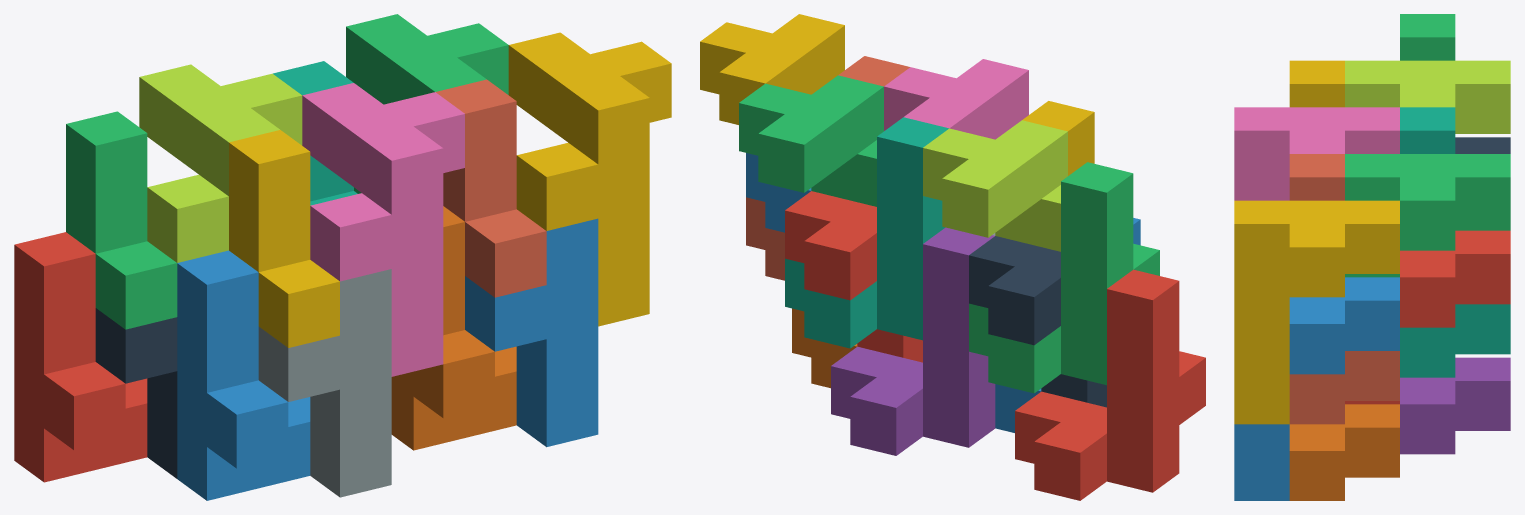
File: tiling.obj
3 renders of one model, left to right at view 1: azimuth 30°, elevation 25°; view 2: azimuth 150°, elevation 25°; view 3: azimuth 270°, elevation 25°, orthographic. The views are drawn at different scales.
Visible parts, largest first — view 1: copy_2_domain_4, copy_2_domain_8, copy_1_domain_1, copy_1_domain_2, copy_2_domain_6, copy_2_domain_2, copy_2_domain_3, copy_1_domain_3, copy_1_domain_4, copy_1_domain_8, copy_1_domain_6, copy_2_domain_7 (+2 smaller); view 2: copy_1_domain_1, copy_1_domain_5, copy_1_domain_3, copy_1_domain_7, copy_2_domain_7, copy_2_domain_3, copy_2_domain_8, copy_2_domain_1, copy_2_domain_5, copy_2_domain_4, copy_1_domain_8, copy_1_domain_4 (+3 smaller); view 3: copy_2_domain_8, copy_2_domain_6, copy_2_domain_7, copy_2_domain_4, copy_2_domain_3, copy_2_domain_5, copy_1_domain_5, copy_1_domain_6, copy_1_domain_7, copy_1_domain_8, copy_1_domain_3, copy_1_domain_4 (+1 smaller).
Boxes of the visible parts, x1,y1,x2,y2 form: copy_2_domain_4: [302, 83, 464, 376]; copy_2_domain_8: [508, 32, 671, 326]; copy_1_domain_1: [14, 232, 147, 482]; copy_1_domain_2: [177, 250, 310, 500]; copy_2_domain_6: [465, 218, 598, 447]; copy_2_domain_2: [258, 269, 391, 497]; copy_2_domain_3: [139, 64, 302, 262]; copy_1_domain_3: [66, 111, 177, 329]; copy_1_domain_4: [229, 130, 339, 347]; copy_1_domain_8: [436, 79, 546, 297]; copy_1_domain_6: [391, 206, 516, 450]; copy_2_domain_7: [346, 14, 508, 193]; copy_1_domain_1: [1015, 269, 1205, 500]; copy_1_domain_5: [831, 227, 995, 455]; copy_1_domain_3: [969, 162, 1159, 393]; copy_1_domain_7: [785, 117, 948, 348]; copy_2_domain_7: [739, 75, 883, 206]; copy_2_domain_3: [923, 120, 1067, 251]; copy_2_domain_8: [700, 14, 844, 124]; copy_2_domain_1: [969, 236, 1106, 407]; copy_2_domain_5: [785, 191, 922, 362]; copy_2_domain_4: [884, 59, 1028, 139]; copy_1_domain_8: [746, 56, 909, 280]; copy_1_domain_4: [1022, 101, 1094, 175]; copy_2_domain_8: [1234, 200, 1399, 424]; copy_2_domain_6: [1234, 277, 1399, 500]; copy_2_domain_7: [1345, 154, 1510, 277]; copy_2_domain_4: [1234, 107, 1399, 200]; copy_2_domain_3: [1345, 60, 1510, 133]; copy_2_domain_5: [1345, 230, 1510, 404]; copy_1_domain_5: [1400, 357, 1510, 454]; copy_1_domain_6: [1289, 404, 1399, 500]; copy_1_domain_7: [1400, 107, 1510, 377]; copy_1_domain_8: [1289, 154, 1399, 424]; copy_1_domain_3: [1400, 14, 1510, 230]; copy_1_domain_4: [1289, 60, 1344, 107].
Bounding box in the file's own units: 11 × 6 × 5.
